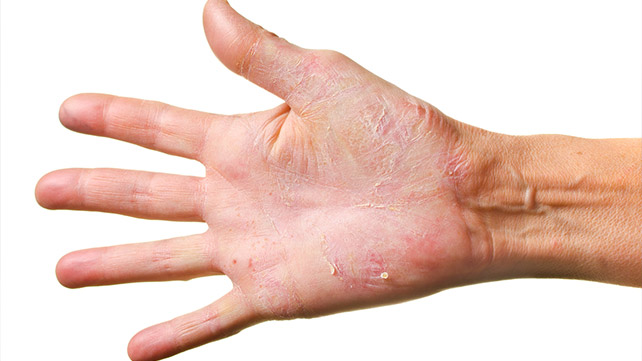Diseased: (215, 49, 468, 316)
